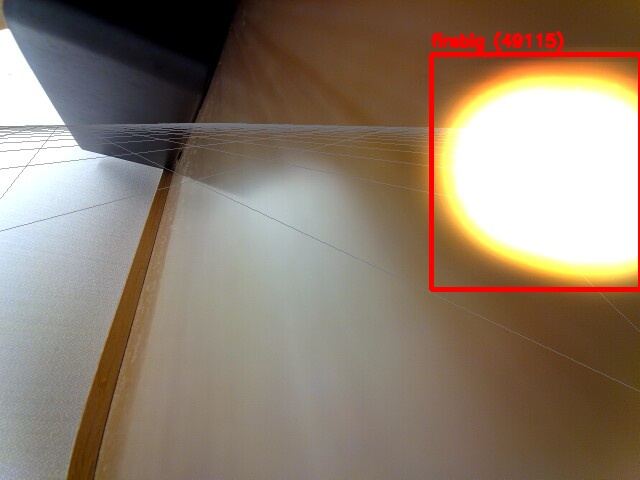firebig: (431, 54, 640, 289)
